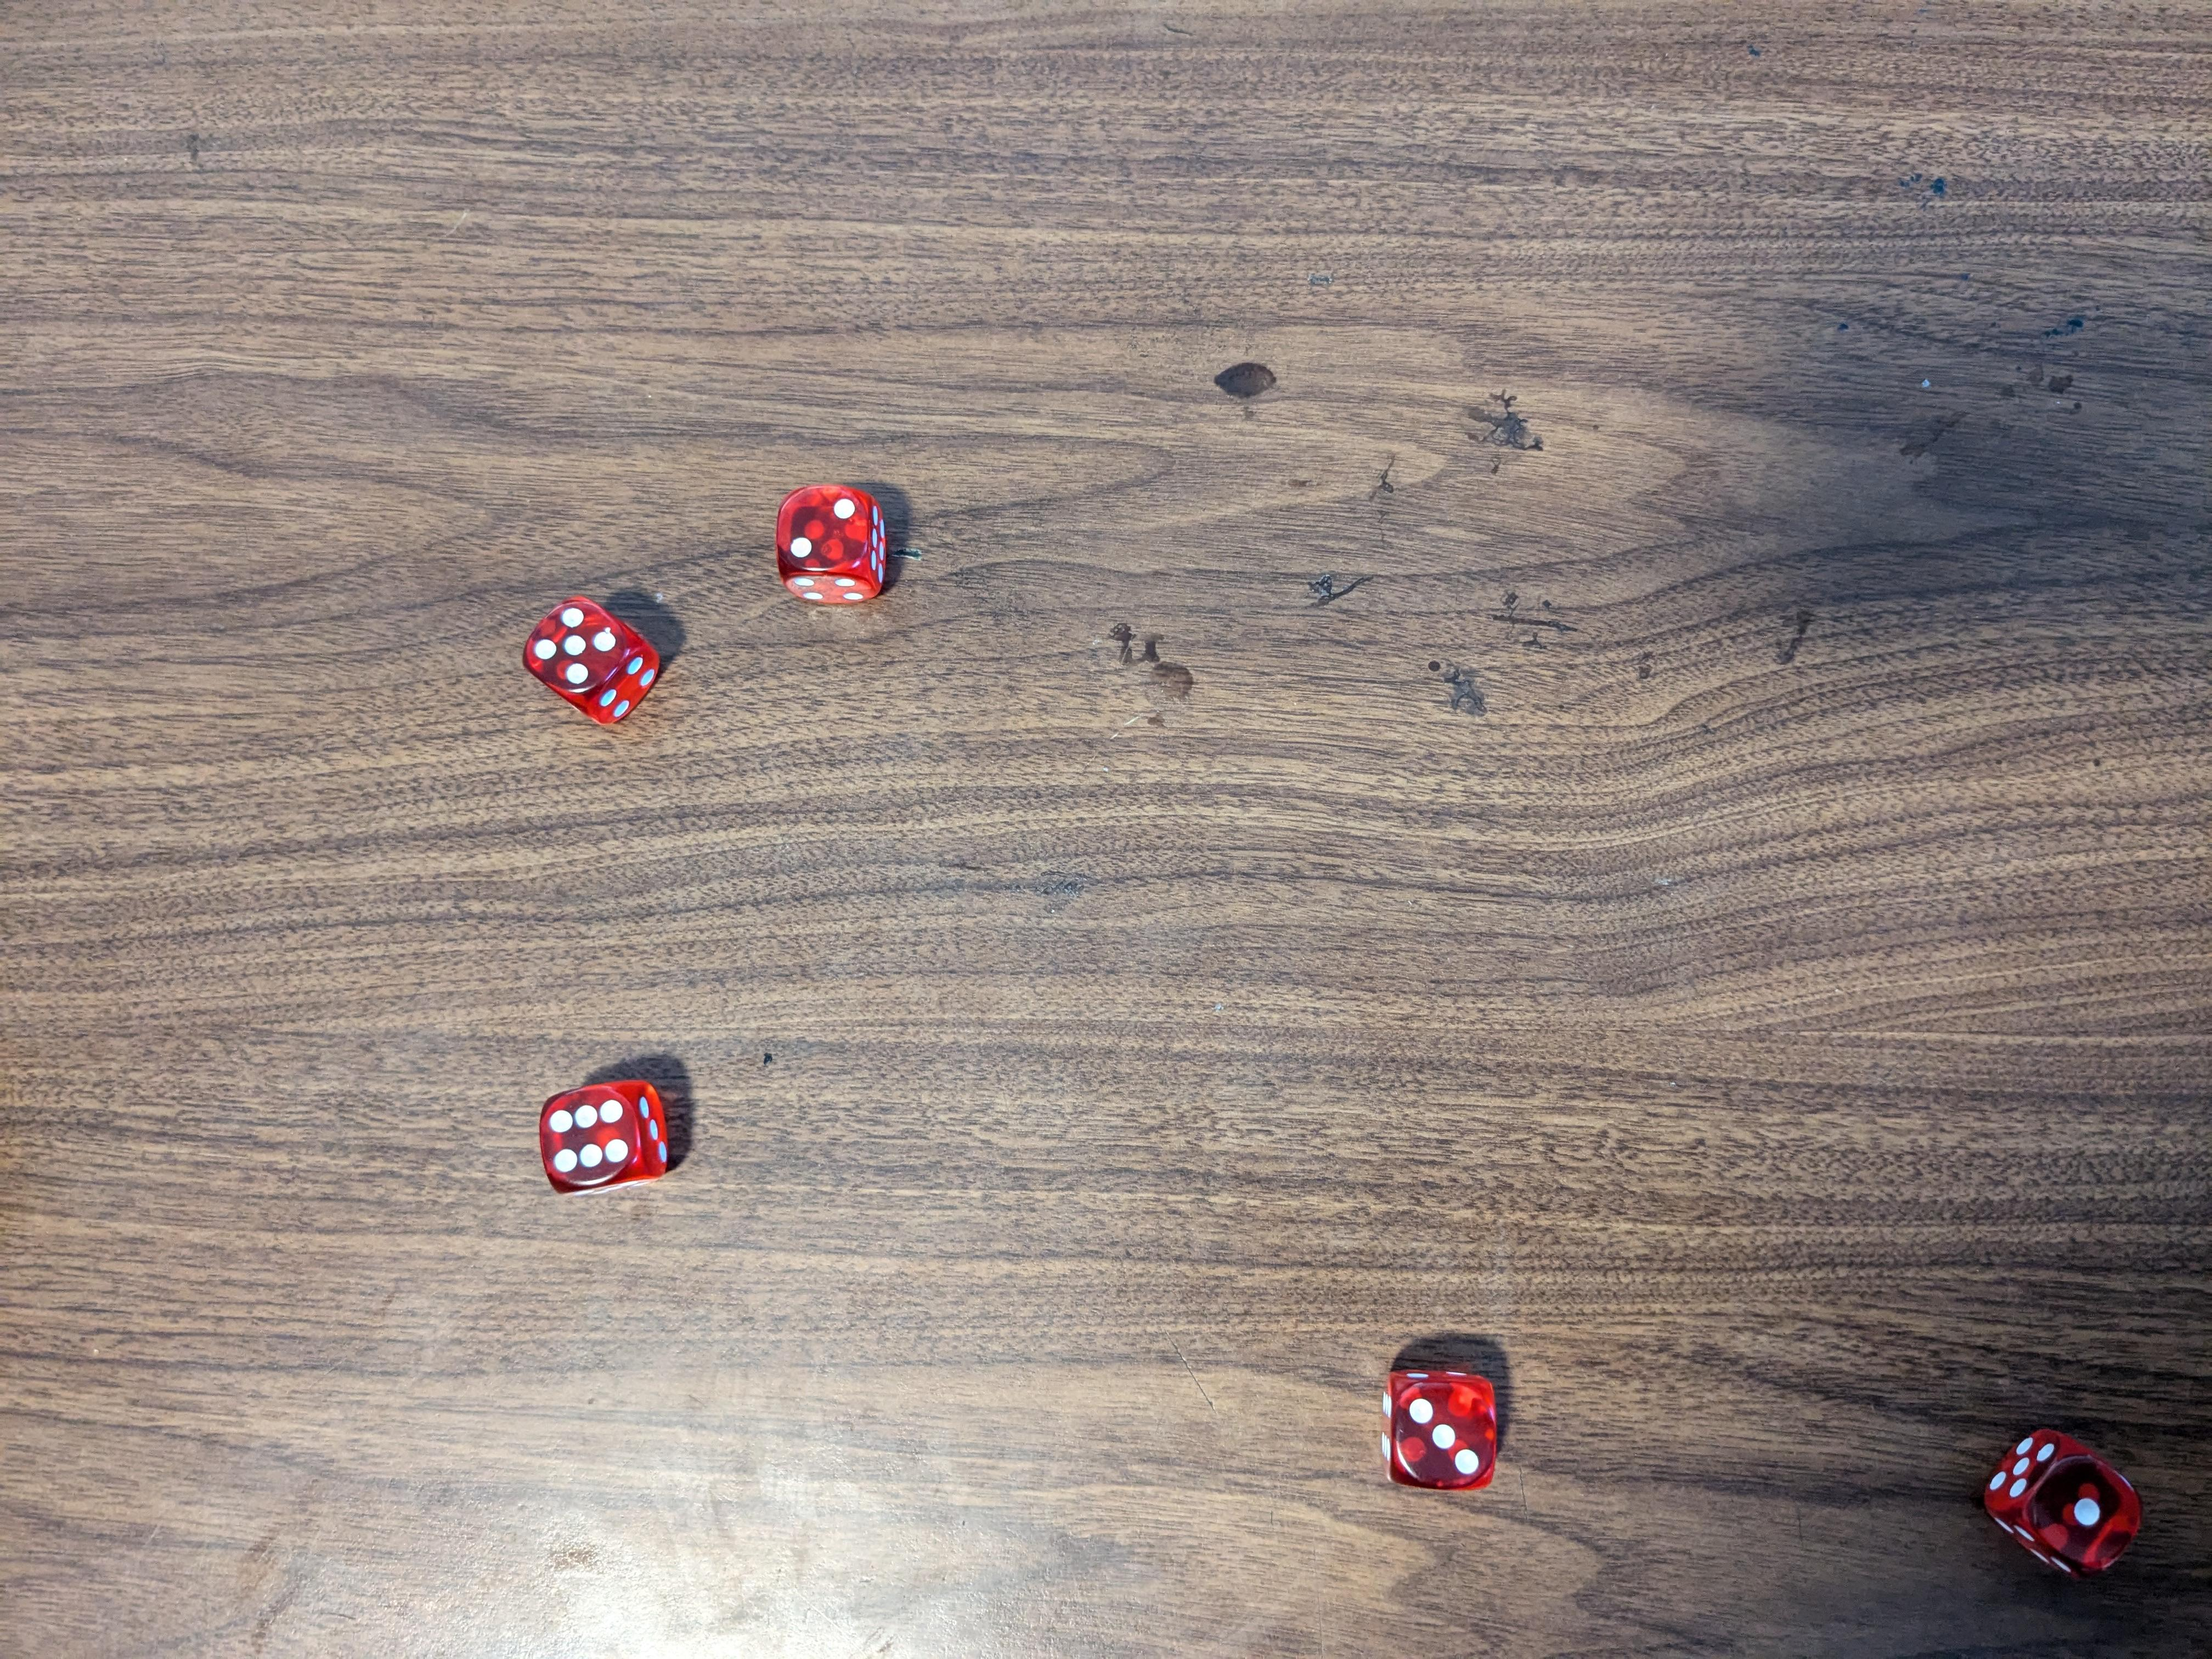five: (516, 594, 672, 735)
one: (1975, 1429, 2148, 1579)
six: (526, 1080, 678, 1202)
three: (1378, 1359, 1498, 1493)
two: (772, 481, 892, 613)
